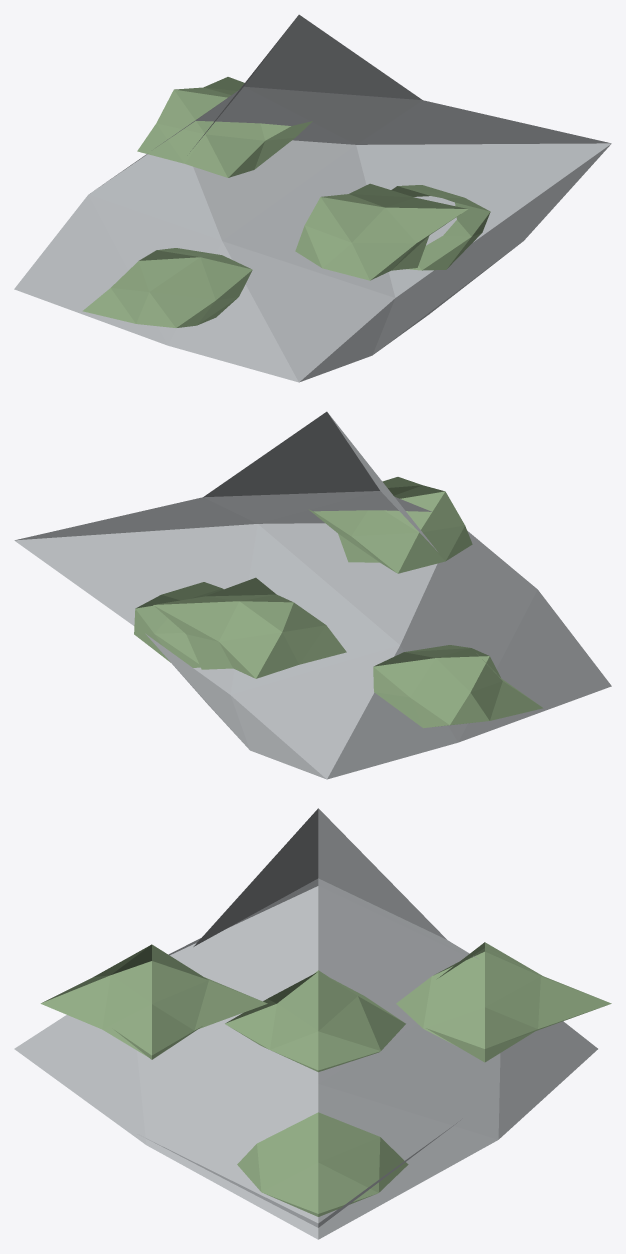
The model's file is moss_rock_v05.glb.
3 renders of one model, top to bottom at view 1: azimuth 30°, elevation 25°; view 2: azimuth 150°, elevation 25°; view 3: azimuth 270°, elevation 25°, orthographic. The views are drawn at different scales.
Parts seen in each view (by area): view 1: lod0; view 2: lod0; view 3: lod0.
Part boxes in pixels (<box>): lod0: <box>14,14,611,382</box>; lod0: <box>14,411,611,779</box>; lod0: <box>14,808,611,1239</box>.
Size of what is drawn, in the model's own units: 0.8513 by 0.5008 by 0.6287.
